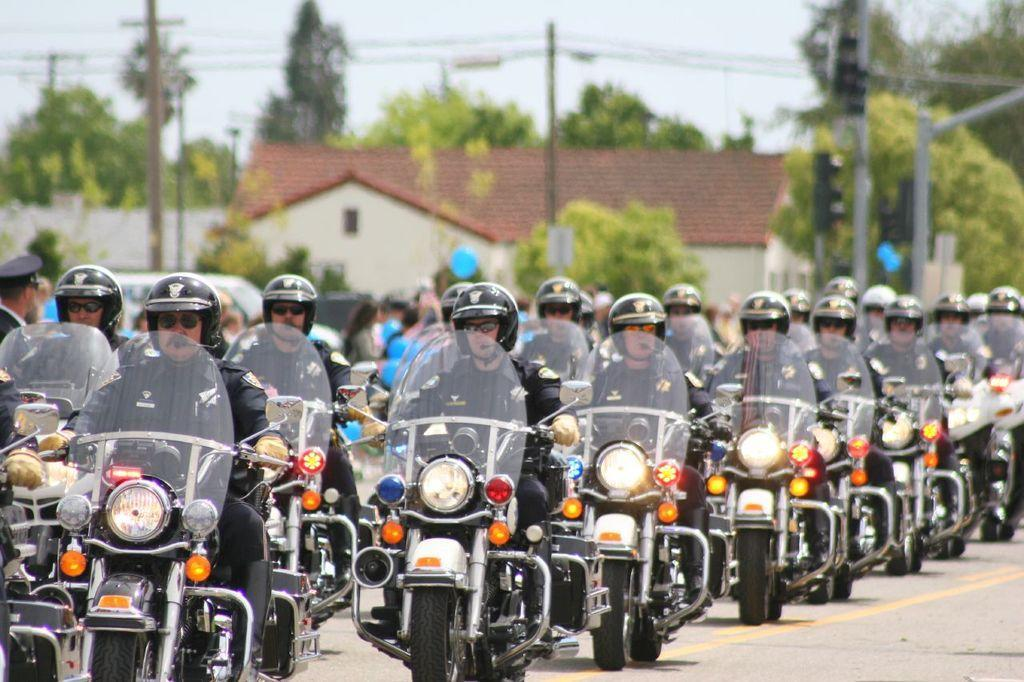helmet: (143, 271, 224, 364), (53, 263, 125, 346), (450, 281, 519, 367), (261, 274, 319, 346), (607, 292, 667, 361), (739, 289, 791, 357), (535, 276, 583, 339), (810, 295, 859, 353), (883, 293, 925, 349), (661, 282, 703, 336), (986, 284, 1024, 336), (933, 295, 971, 341)
nohelmet: (0, 253, 44, 321)
